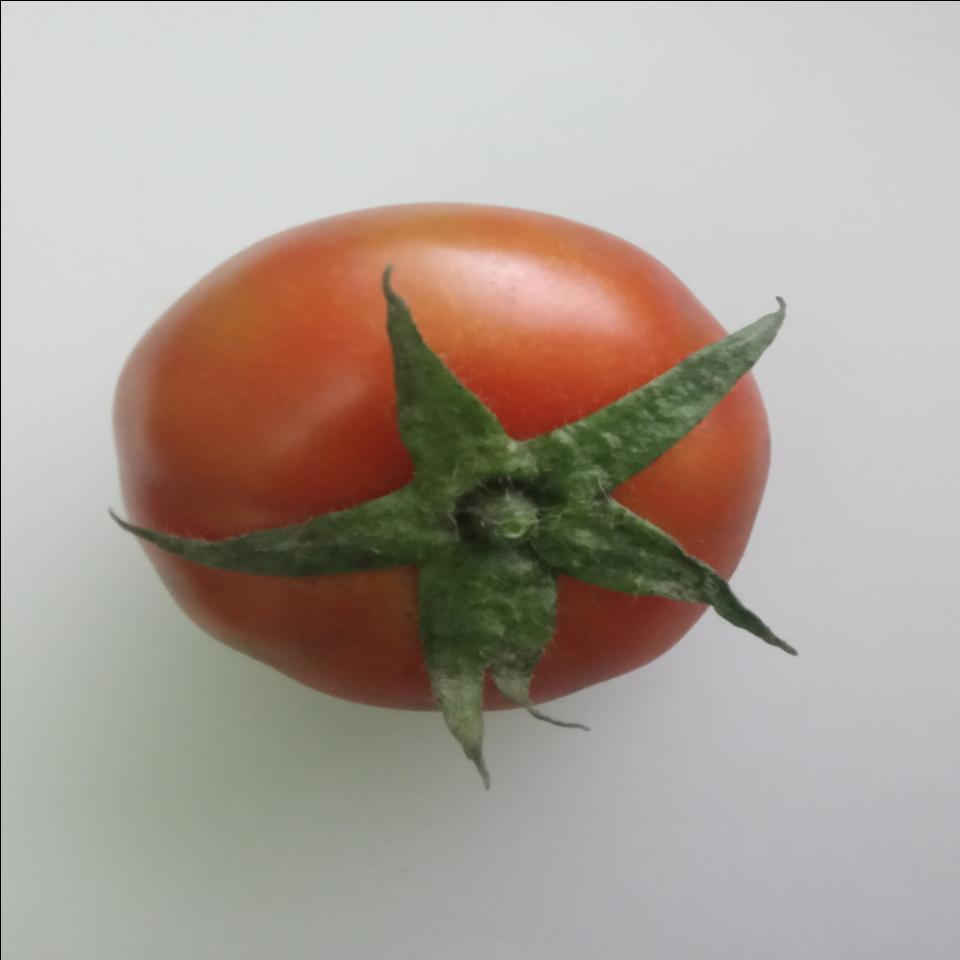Healthy: (108, 187, 780, 729)
